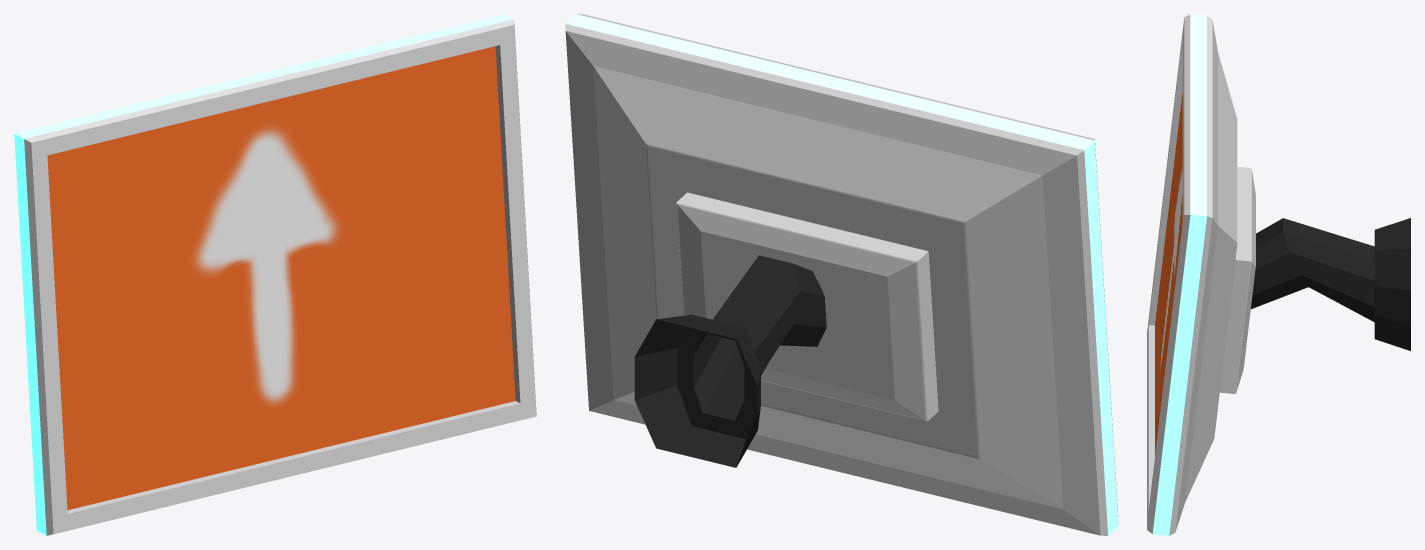
The model's file is SM_NodeBottomMonitor.fbx.
The picture shows the model from 3 angles, left to right: view 1: azimuth 30°, elevation 25°; view 2: azimuth 150°, elevation 25°; view 3: azimuth 270°, elevation 25°; orthographic projection. The views are drawn at different scales.
Parts seen in each view (by area): view 1: NodeBottomMonitor_00; view 2: NodeBottomMonitor_00; view 3: NodeBottomMonitor_00.
Part boxes in pixels (x1,y1,x2,y2): NodeBottomMonitor_00: [14, 14, 536, 535]; NodeBottomMonitor_00: [565, 14, 1118, 535]; NodeBottomMonitor_00: [1147, 14, 1410, 535].
Size of the model in its own units: 46.64 by 34.79 by 25.9.
